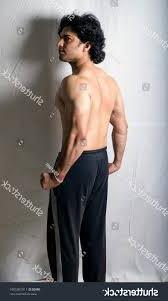Human: (38, 8, 133, 298)
